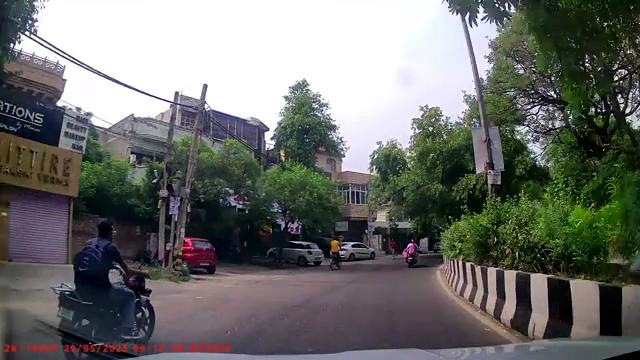motorcycle_without_helmet: (54, 219, 157, 359)
